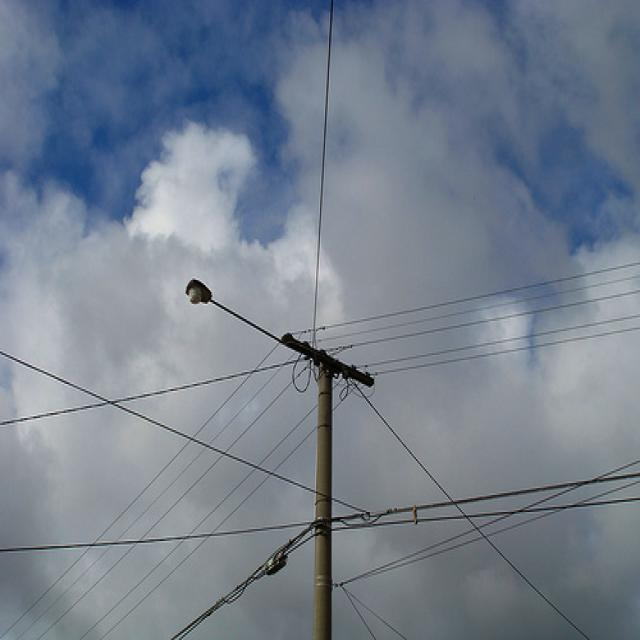crossarm: (279, 331, 373, 388)
pole: (313, 350, 335, 640)
wire: (2, 259, 640, 638), (14, 274, 639, 638), (34, 289, 639, 640), (75, 313, 640, 638), (98, 381, 361, 640), (360, 391, 585, 637), (0, 353, 314, 493), (343, 458, 639, 587), (349, 475, 640, 586), (167, 522, 315, 640), (334, 471, 640, 524), (373, 322, 640, 378), (180, 528, 315, 638), (0, 521, 316, 555), (312, 0, 335, 326), (347, 590, 409, 640), (340, 584, 379, 640)
